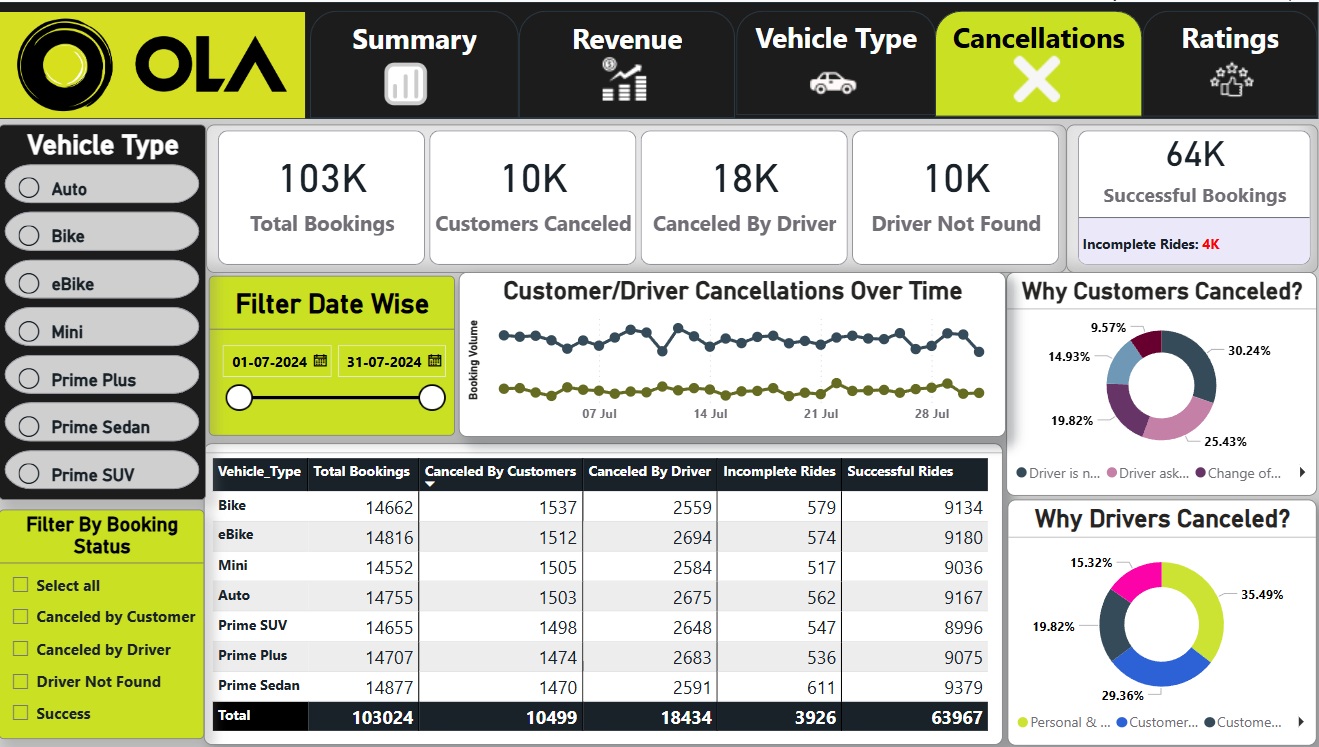

This screenshot's page, from the dashboard's own definition file:
{"tool":"powerbi","page":{"name":"Cancellations","canvas":[1280,720],"ordinal":3},"visuals":[{"type":"shape","box":[1.3,0,1276.2,112.9],"z":0},{"type":"group","id":"g1","title":"Group 3","box":[5.1,9.1,294.3,102.8],"z":1000},{"type":"group","id":"g2","title":"Group 1","box":[304.1,8.9,201.7,103.8],"z":2000},{"type":"shape","box":[304.1,8.9,201.7,103.8],"z":2000,"group":"g2"},{"type":"shape","box":[5.1,9.1,294.3,102.8],"z":2000,"group":"g1"},{"type":"group","id":"g3","title":"Group 2","box":[505.8,8.9,209.1,103.8],"z":3000},{"type":"shape","box":[505.8,8.9,209.1,103.8],"z":3000,"group":"g3"},{"type":"image","box":[5.1,9.1,294.3,102.8],"z":3000,"group":"g1"},{"type":"group","id":"g4","title":"Group 4","box":[714.9,8.9,192.8,101],"z":4000},{"type":"shape","box":[714.9,8.9,192.8,100.9],"z":4000,"group":"g4"},{"type":"group","id":"g5","title":"Group 5","box":[907.7,8.9,200.2,102.3],"z":5000},{"type":"shape","box":[907.7,8.9,200.2,102.3],"z":5000,"group":"g5"},{"type":"group","id":"g6","title":"Group 6","box":[1107.9,8.9,169.1,102.3],"z":6000},{"type":"shape","box":[1107.9,8.9,169.1,102.3],"z":6000,"group":"g6"},{"type":"actionButton","box":[298.1,7.4,209.1,106.8],"z":7000},{"type":"image","box":[580.3,47.6,54.9,54.9],"z":7001,"group":"g3"},{"type":"image","box":[781.8,55,54.9,54.9],"z":7002,"group":"g4"},{"type":"image","box":[979.3,47.6,54.9,54.9],"z":7003,"group":"g5"},{"type":"image","box":[1167.3,47.6,54.9,54.9],"z":7004,"group":"g6"},{"type":"actionButton","box":[507.3,5.9,209.1,106.8],"z":8000},{"type":"image","box":[369.3,52.1,54.9,54.9],"z":8500,"group":"g2"},{"type":"actionButton","box":[714.9,5.9,192.8,106.8],"z":9000},{"type":"actionButton","box":[906.2,4.4,200.2,106.8],"z":10000},{"type":"actionButton","box":[1107.9,7.4,172.1,103.8],"z":11000},{"type":"pivotTable","fields":{"Rows":["OLA Dataset.Vehicle_Type"],"Values":["CountNonNull(OLA Dataset.Booking_ID)","OLA Dataset.Bookings Canceled By Customers","OLA Dataset.Bookings Canceled By Driver","OLA Dataset.Successful But Incomplete Rides","OLA Dataset.Successful Bookings"]},"box":[201.8,426,771.4,291],"z":12000},{"type":"slicer","title":"Filter Date Wise","fields":{"Values":["OLA Dataset.Date"]},"box":[206.9,264.7,237.3,154.8],"z":13000},{"type":"advancedSlicerVisual","title":"Vehicle Type","fields":{"Values":["OLA Dataset.Vehicle_Type"]},"box":[3.6,117.9,200,362.5],"z":14000},{"type":"slicer","title":"Filter By Booking Status","fields":{"Values":["OLA Dataset.Booking_Status"]},"box":[3.6,489.3,198.2,221.4],"z":15000},{"type":"cardVisual","fields":{"Data":["CountNonNull(OLA Dataset.Booking_ID)","OLA Dataset.Bookings Canceled By Customers","OLA Dataset.Bookings Canceled By Driver","OLA Dataset.Driver Not Found Bookings"]},"box":[203.6,117.9,830.4,142.9],"z":16000},{"type":"cardVisual","fields":{"Data":["OLA Dataset.Successful Bookings"]},"box":[1033.9,117.9,242.9,142.9],"z":16001},{"type":"donutChart","title":"Why Drivers Canceled?","fields":{"Category":["OLA Dataset.Canceled_Rides_by_Driver"],"Y":["OLA Dataset.Bookings Canceled By Driver"]},"box":[976.8,480.4,298.2,237.5],"z":16002},{"type":"donutChart","title":"Why Customers Canceled?","fields":{"Y":["OLA Dataset.Bookings Canceled By Customers"],"Category":["OLA Dataset.Canceled_Rides_by_Customer"]},"box":[976,260.7,300,216],"z":16003},{"type":"lineChart","title":"Customer/Driver Cancellations Over Time","fields":{"Category":["OLA Dataset.Date"],"Y":["OLA Dataset.Bookings Canceled By Driver","OLA Dataset.Bookings Canceled By Customers"]},"box":[447,260.4,528,159.1],"z":16004}]}

Visuals, with their boxes in screenshot pixels (x1, y1, x2, y2), scaled from the page's 1280x720 canvas onto the 1319x747 screenshot:
shape: region(1, 0, 1316, 117)
"Group 3" group: region(5, 9, 309, 116)
"Group 1" group: region(313, 9, 521, 117)
shape: region(313, 9, 521, 117)
shape: region(5, 9, 309, 116)
"Group 2" group: region(521, 9, 737, 117)
shape: region(521, 9, 737, 117)
image: region(5, 9, 309, 116)
"Group 4" group: region(737, 9, 935, 114)
shape: region(737, 9, 935, 114)
"Group 5" group: region(935, 9, 1142, 115)
shape: region(935, 9, 1142, 115)
"Group 6" group: region(1142, 9, 1316, 115)
shape: region(1142, 9, 1316, 115)
actionButton: region(307, 8, 523, 118)
image: region(598, 49, 655, 106)
image: region(806, 57, 862, 114)
image: region(1009, 49, 1066, 106)
image: region(1203, 49, 1259, 106)
actionButton: region(523, 6, 738, 117)
image: region(381, 54, 437, 111)
actionButton: region(737, 6, 935, 117)
actionButton: region(934, 5, 1140, 115)
actionButton: region(1142, 8, 1318, 115)
pivotTable - OLA Dataset.Vehicle_Type x CountNonNull(OLA Dataset.Booking_ID): region(208, 442, 1003, 744)
"Filter Date Wise" slicer: region(213, 275, 458, 435)
"Vehicle Type" advancedSlicerVisual: region(4, 122, 210, 498)
"Filter By Booking Status" slicer: region(4, 508, 208, 737)
cardVisual - CountNonNull(OLA Dataset.Booking_ID) x OLA Dataset.Bookings Canceled By Customers: region(210, 122, 1066, 271)
cardVisual - OLA Dataset.Successful Bookings: region(1065, 122, 1316, 271)
"Why Drivers Canceled?" donutChart: region(1007, 498, 1314, 745)
"Why Customers Canceled?" donutChart: region(1006, 270, 1315, 495)
"Customer/Driver Cancellations Over Time" lineChart: region(461, 270, 1005, 435)
